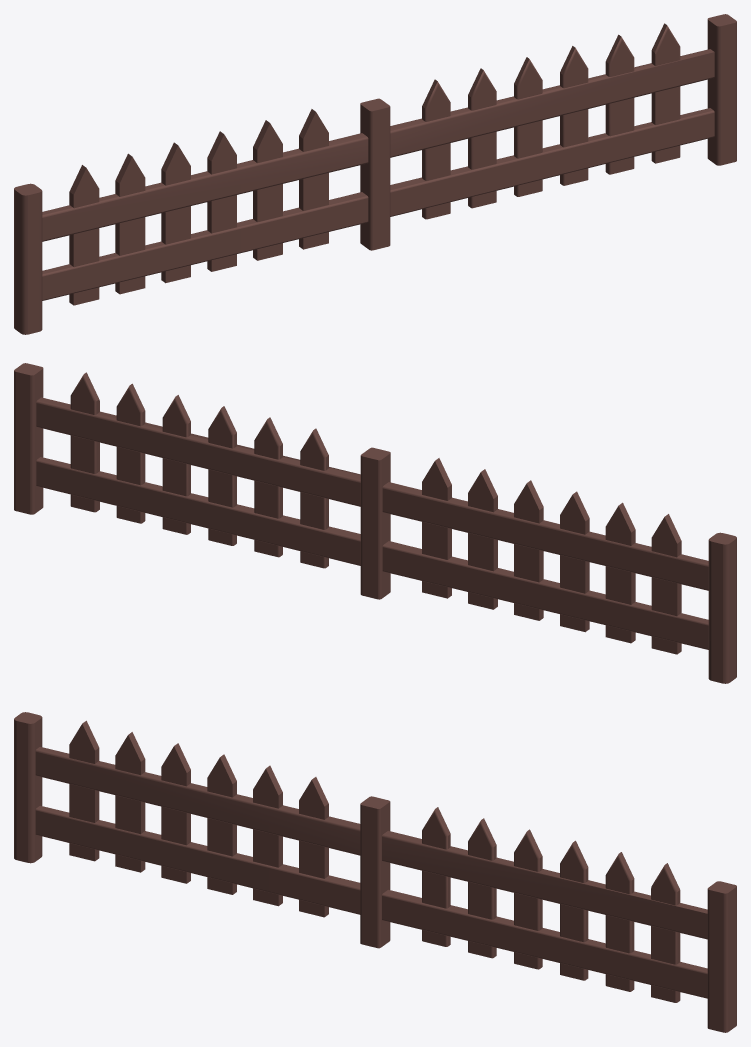
Rendered from fance.fbx.
3 views of the same model, one above another, from view 1: azimuth 30°, elevation 25°; view 2: azimuth 150°, elevation 25°; view 3: azimuth 330°, elevation 25° (orthographic).
Visible parts, largest first — view 1: Fence2; view 2: Fence2; view 3: Fence2.
Boxes of the visible parts, box(x1,y1,x2,y2) form: Fence2: box(14, 14, 736, 334); Fence2: box(14, 363, 736, 683); Fence2: box(14, 712, 736, 1032).
Size of the model in its own units: 589 by 117 by 16.55.
